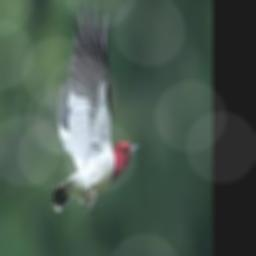Woodpecker: (47, 0, 141, 213)
